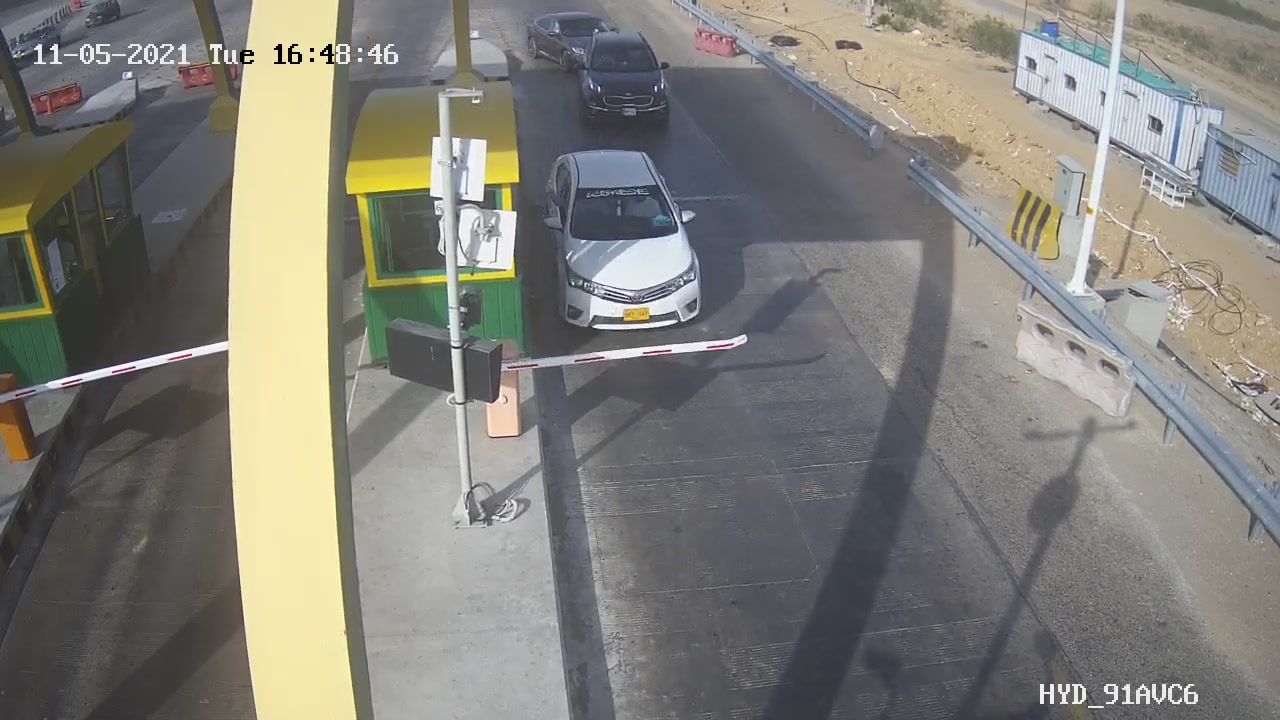F1: (531, 134, 725, 349), (569, 21, 689, 135)
